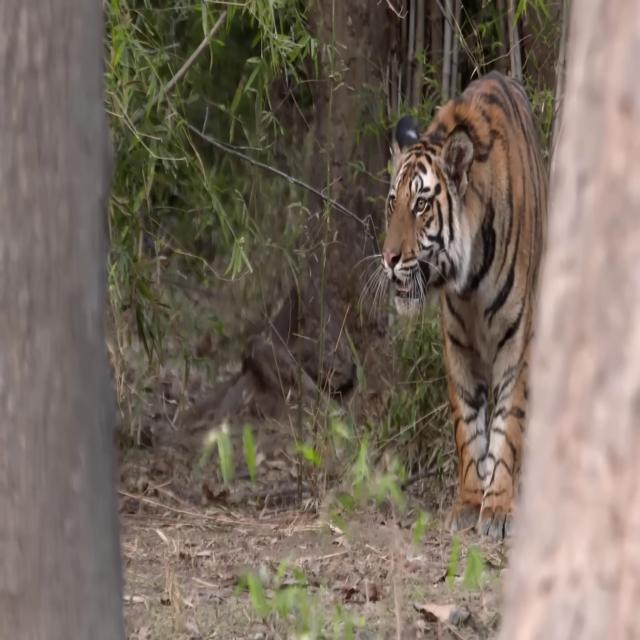tiger: (376, 70, 546, 539)
